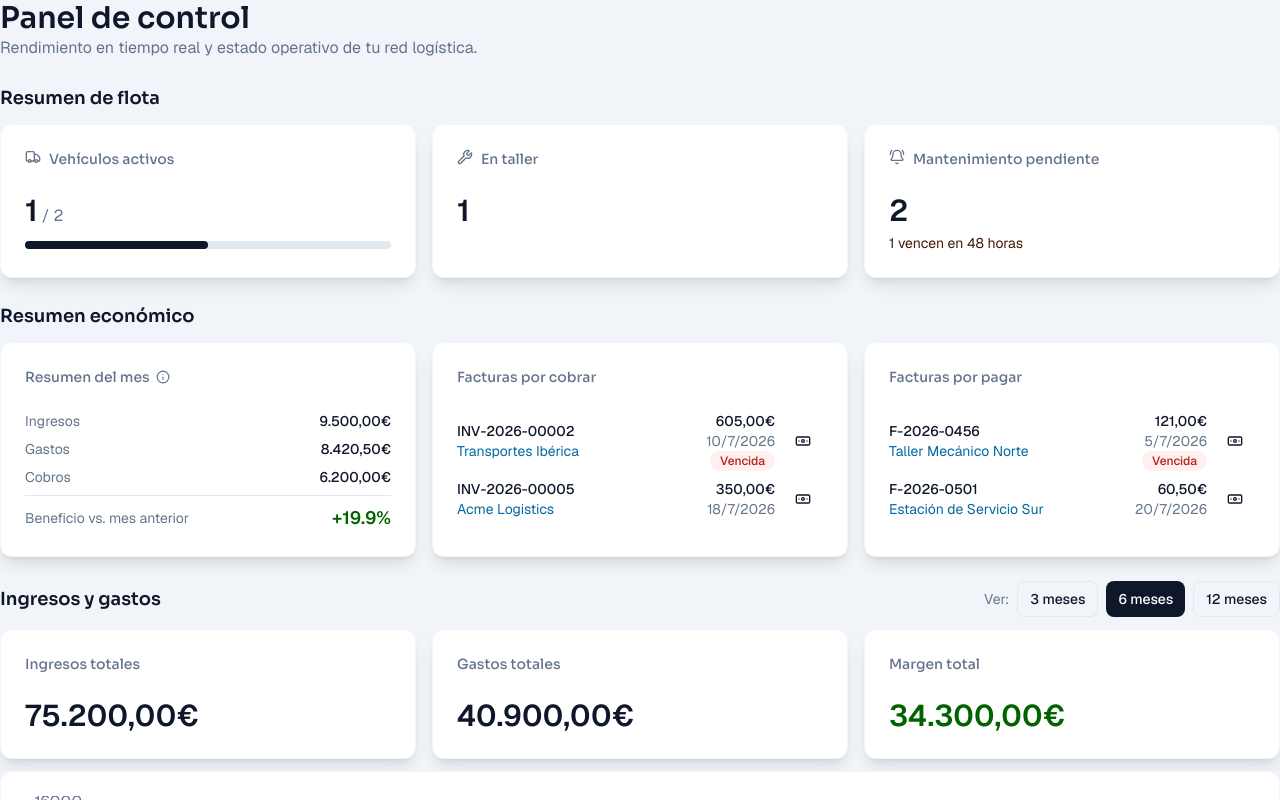
Test: Dashboard › opens the supplier invoice modal in read-only mode from the invoice code in "Facturas por pagar", even though it is still PENDING (normally editable)
Step 1. Click the button "F-2026-0456" → (959, 431), box [889, 421, 1028, 441]
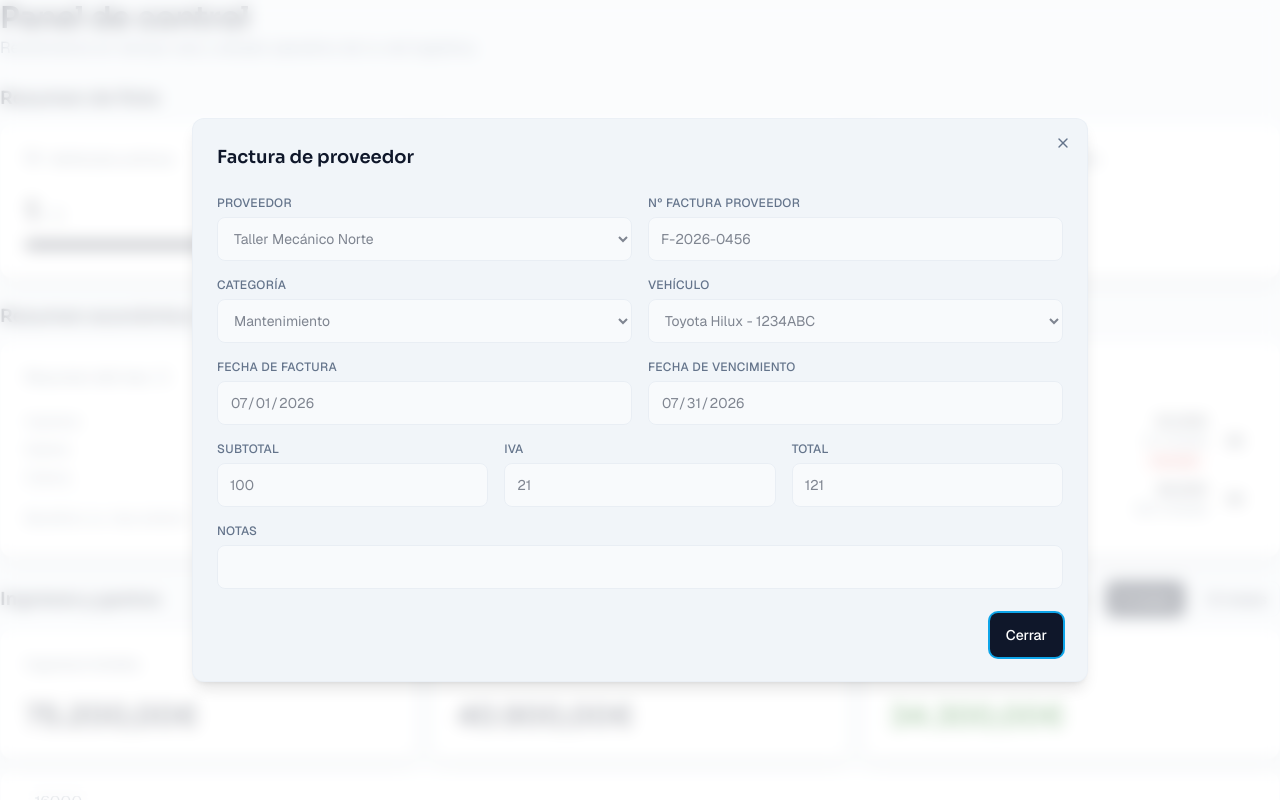
Check: the heading "Factura de proveedor" is shown, box [217, 146, 414, 168]
Check: the field labelled "Nº factura proveedor" is disabled, box [648, 217, 1063, 261]
